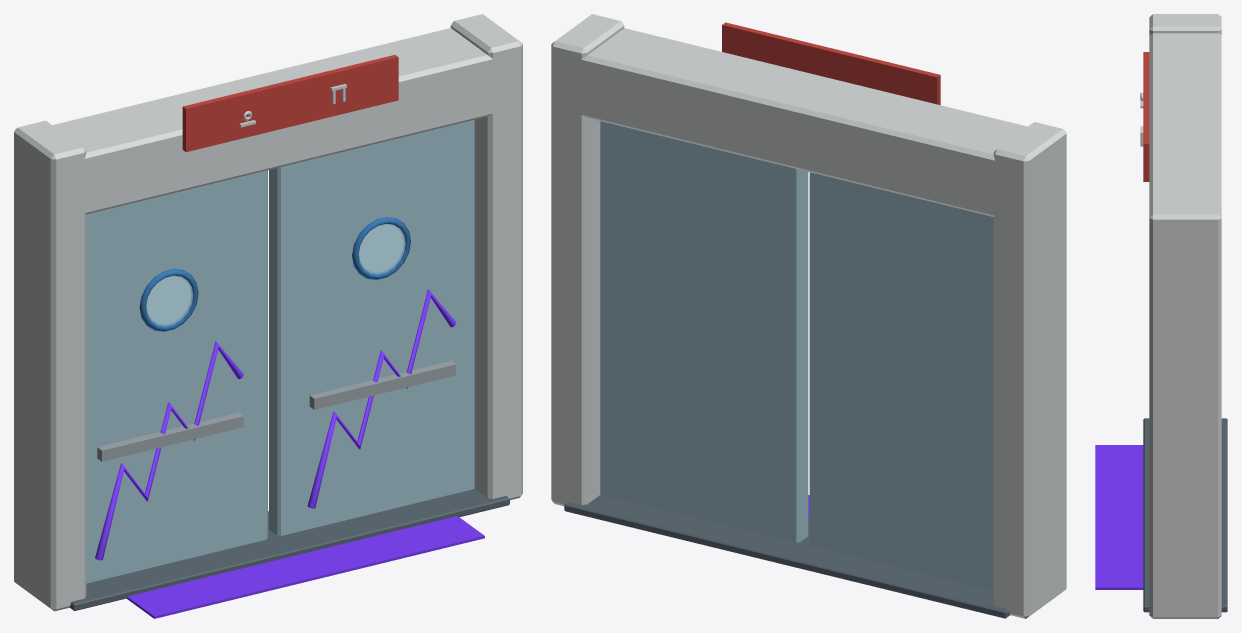
Rendered from boss_gate.fbx.
3 renders of one model, left to right at view 1: azimuth 30°, elevation 25°; view 2: azimuth 150°, elevation 25°; view 3: azimuth 270°, elevation 25°, orthographic. The views are drawn at different scales.
Parts seen in each view (by area): view 1: boss_gate; view 2: boss_gate; view 3: boss_gate.
Part boxes in pixels (<box>): boss_gate: <box>14,14,522,618</box>; boss_gate: <box>551,14,1066,618</box>; boss_gate: <box>1095,14,1227,618</box>.
Bounding box in the file's own units: 4 × 3.85 × 1.1.
